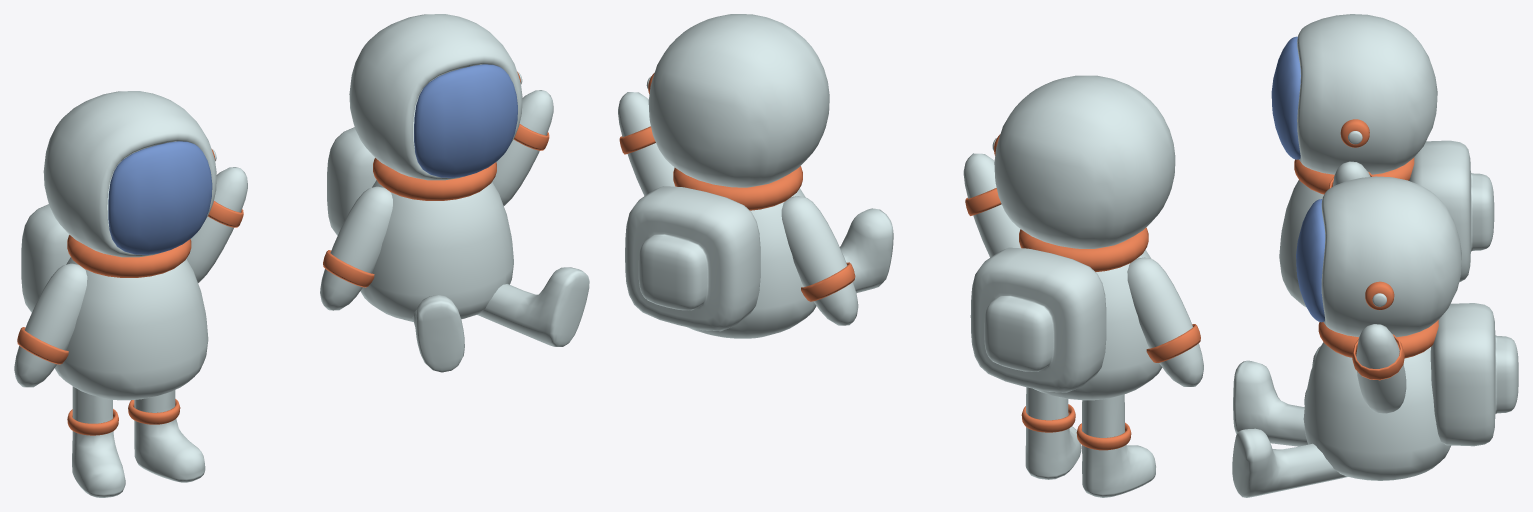
The model's file is Item_Puzzle_Astronauta.fbx.
3 renders of one model, left to right at view 1: azimuth 30°, elevation 25°; view 2: azimuth 150°, elevation 25°; view 3: azimuth 270°, elevation 25°, orthographic. The views are drawn at different scales.
Parts seen in each view (by area): view 1: Item_Astronauta_1, Item_Astronauta_9, Item_Astronauta_4, Item_Astronauta_16, Item_Astronauta_7, Item_Astronauta_12, Item_Astronauta_2, Item_Astronauta_3, Item_Astronauta_13; view 2: Item_Astronauta_1, Item_Astronauta_9, Item_Astronauta_12, Item_Astronauta_7, Item_Astronauta_2, Item_Astronauta_13, Item_Astronauta_3, Item_Astronauta_11; view 3: Item_Astronauta_9, Item_Astronauta_1, Item_Astronauta_4, Item_Astronauta_16, Item_Astronauta_12, Item_Astronauta_7, Item_Astronauta_11, Item_Astronauta_14, Item_Astronauta_6.
Part boxes in pixels (x1,y1,x2,y2): Item_Astronauta_1: (14, 91, 247, 497); Item_Astronauta_9: (320, 14, 589, 372); Item_Astronauta_4: (108, 141, 212, 254); Item_Astronauta_16: (414, 64, 517, 177); Item_Astronauta_7: (67, 235, 191, 277); Item_Astronauta_12: (373, 158, 496, 200); Item_Astronauta_2: (67, 399, 180, 435); Item_Astronauta_3: (17, 327, 68, 364); Item_Astronauta_13: (323, 250, 374, 287); Item_Astronauta_1: (963, 75, 1203, 497); Item_Astronauta_9: (618, 14, 893, 338); Item_Astronauta_12: (673, 166, 802, 210); Item_Astronauta_7: (1019, 227, 1148, 271); Item_Astronauta_2: (1021, 404, 1131, 450); Item_Astronauta_13: (801, 262, 855, 301); Item_Astronauta_3: (1146, 324, 1200, 362); Item_Astronauta_11: (619, 126, 655, 154); Item_Astronauta_9: (1232, 176, 1518, 497); Item_Astronauta_1: (1279, 14, 1494, 405); Item_Astronauta_4: (1271, 36, 1300, 159); Item_Astronauta_16: (1296, 199, 1325, 322); Item_Astronauta_12: (1318, 320, 1438, 358); Item_Astronauta_7: (1294, 157, 1414, 194); Item_Astronauta_11: (1352, 334, 1404, 380); Item_Astronauta_14: (1365, 281, 1394, 310); Item_Astronauta_6: (1340, 119, 1369, 147).
Bounding box in the file's own units: 3.8 × 2.5 × 1.76.
